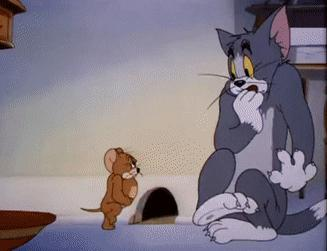jerry: (79, 146, 144, 231)
